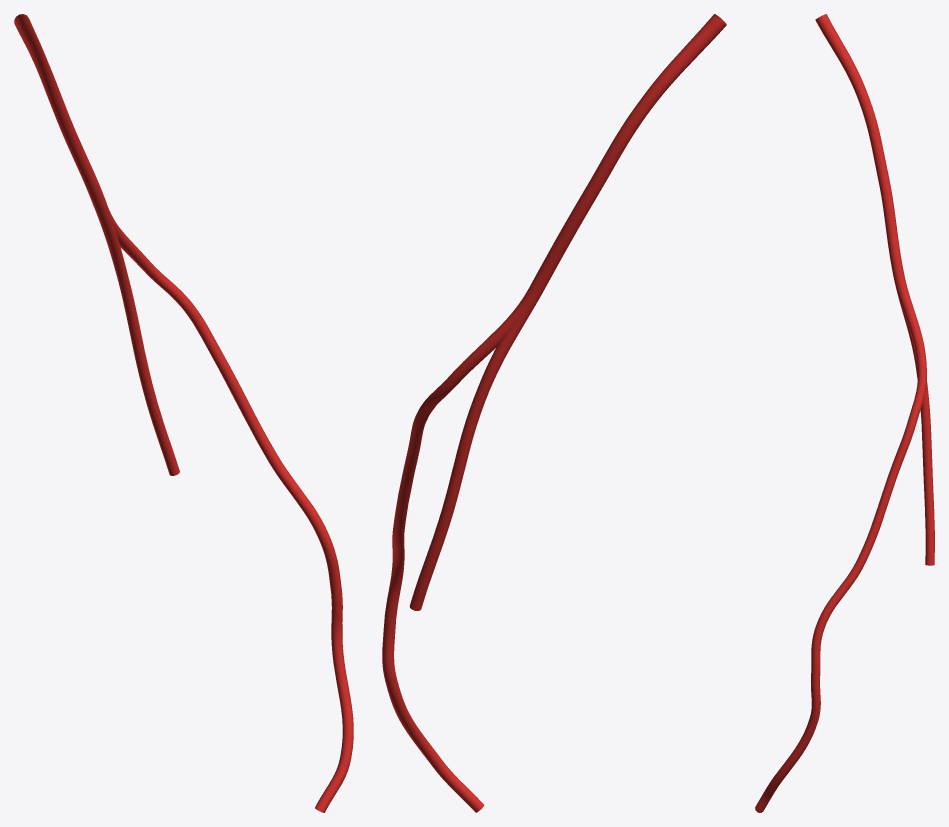
Rendered from circulatorio-deep-brachial-artery-l.glb.
3 renders of one model, left to right at view 1: azimuth 30°, elevation 25°; view 2: azimuth 150°, elevation 25°; view 3: azimuth 270°, elevation 25°, orthographic. The views are drawn at different scales.
Parts seen in each view (by area): view 1: Radial collateral artery.l, Middle collateral artery.l, Deep brachial artery.l; view 2: Radial collateral artery.l, Deep brachial artery.l, Middle collateral artery.l; view 3: Radial collateral artery.l, Deep brachial artery.l, Middle collateral artery.l.
Part boxes in pixels (x1,y1,x2,y2): Radial collateral artery.l: [97, 205, 353, 812]; Middle collateral artery.l: [94, 204, 179, 475]; Deep brachial artery.l: [14, 14, 106, 209]; Radial collateral artery.l: [382, 287, 534, 812]; Deep brachial artery.l: [529, 14, 726, 294]; Middle collateral artery.l: [409, 290, 541, 610]; Radial collateral artery.l: [755, 273, 926, 812]; Deep brachial artery.l: [815, 14, 903, 275]; Middle collateral artery.l: [893, 273, 934, 565].
Bounding box in the file's own units: 0.0833 × 0.2055 × 0.0483.
